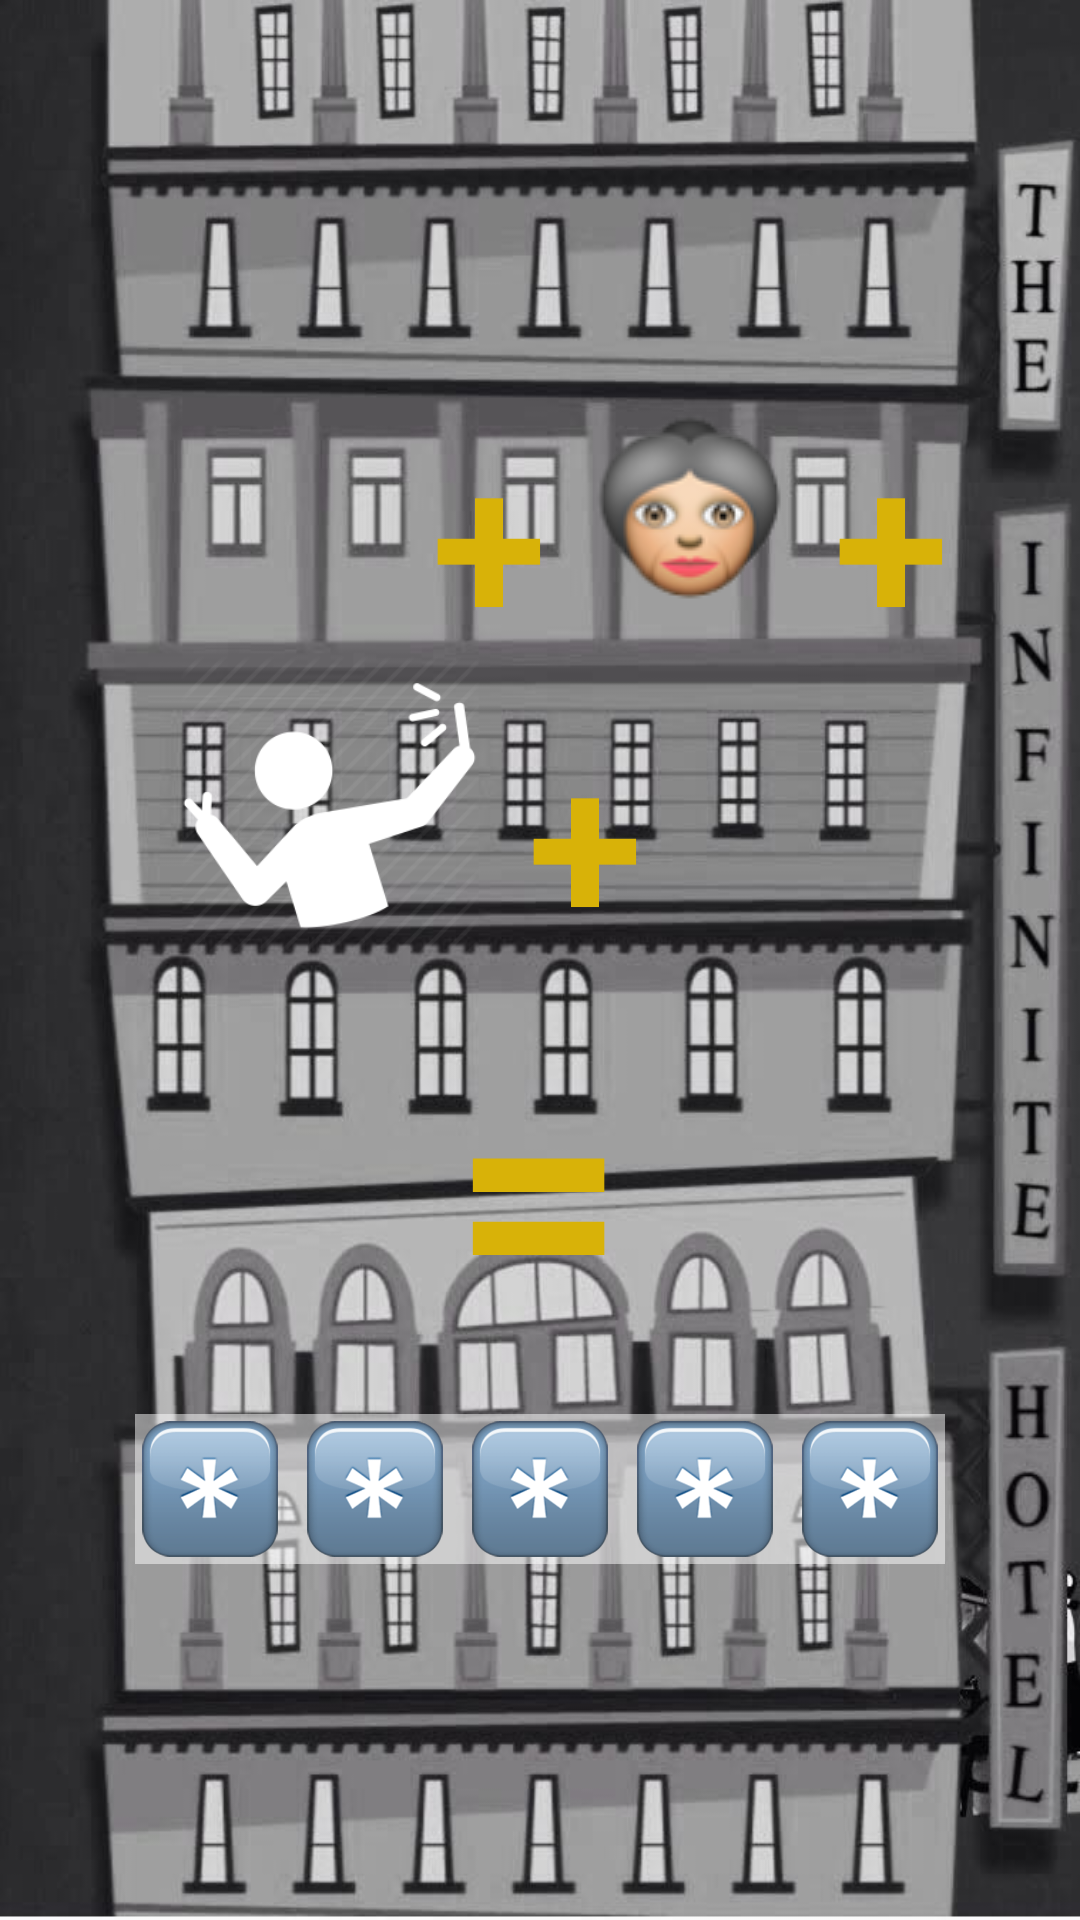

Screen size 1080w x 1920h. Icon name, then its center in pixels as point (x, y):
asterix: point (210, 1489), point (375, 1489), point (705, 1489), point (870, 1489), point (540, 1492)
memaw: point (690, 505)
slefie: point (330, 805)
